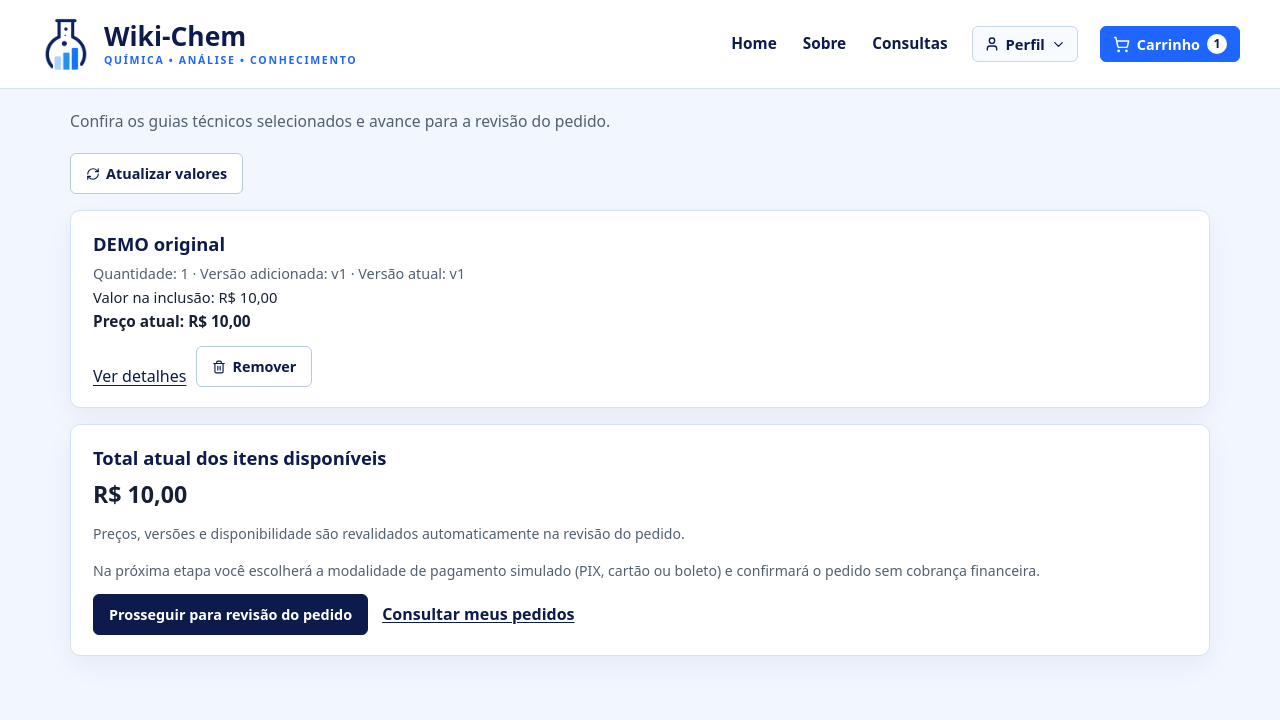
Test case: checkout integrado aos contratos HTTP, simulação de pagamento e compras consecutivas › ao abrir o carrinho com intenção expirada ou cancelada no localStorage, consulta o estado e permite nova compra
The width and height of the screenshot is (1280, 720).
(page scrolled)
What coordinates should you click on to do the following:
click the button "Prosseguir para revisão do pedido"
I would click on:
 (231, 614)
Its box is [93, 594, 368, 635].
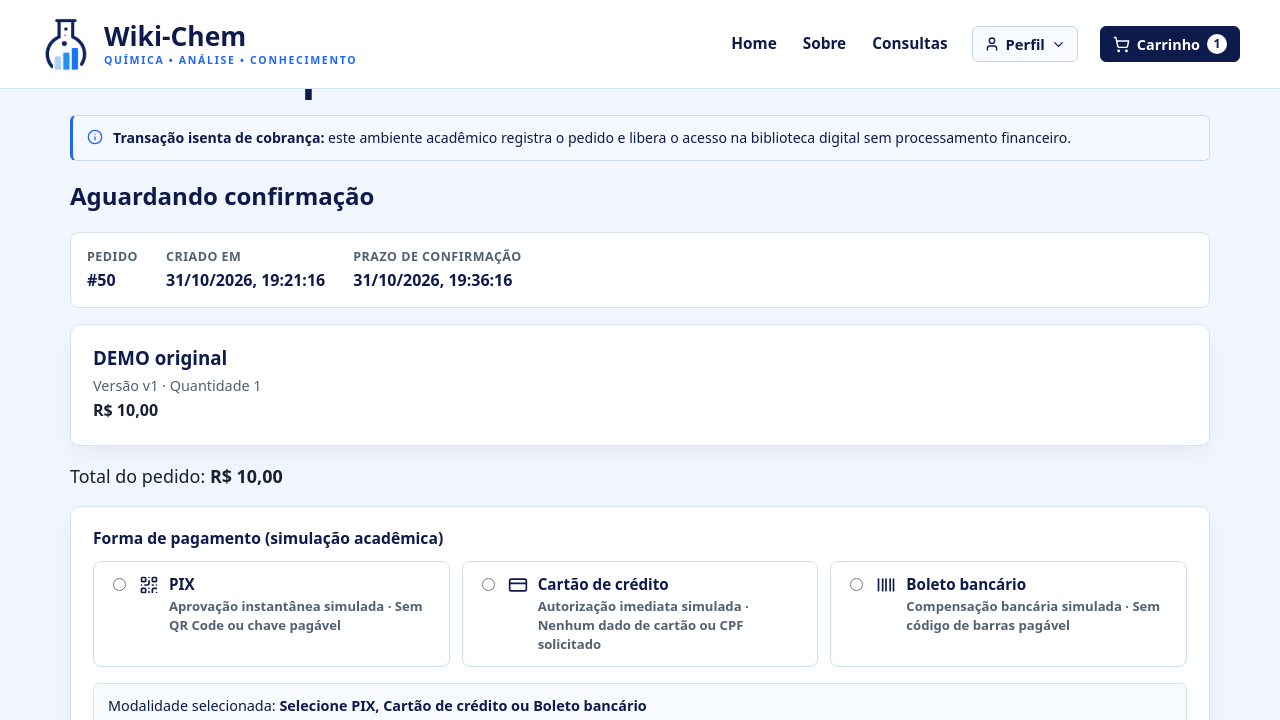
Expected: the text "#50" is shown, [87, 269, 116, 291]
